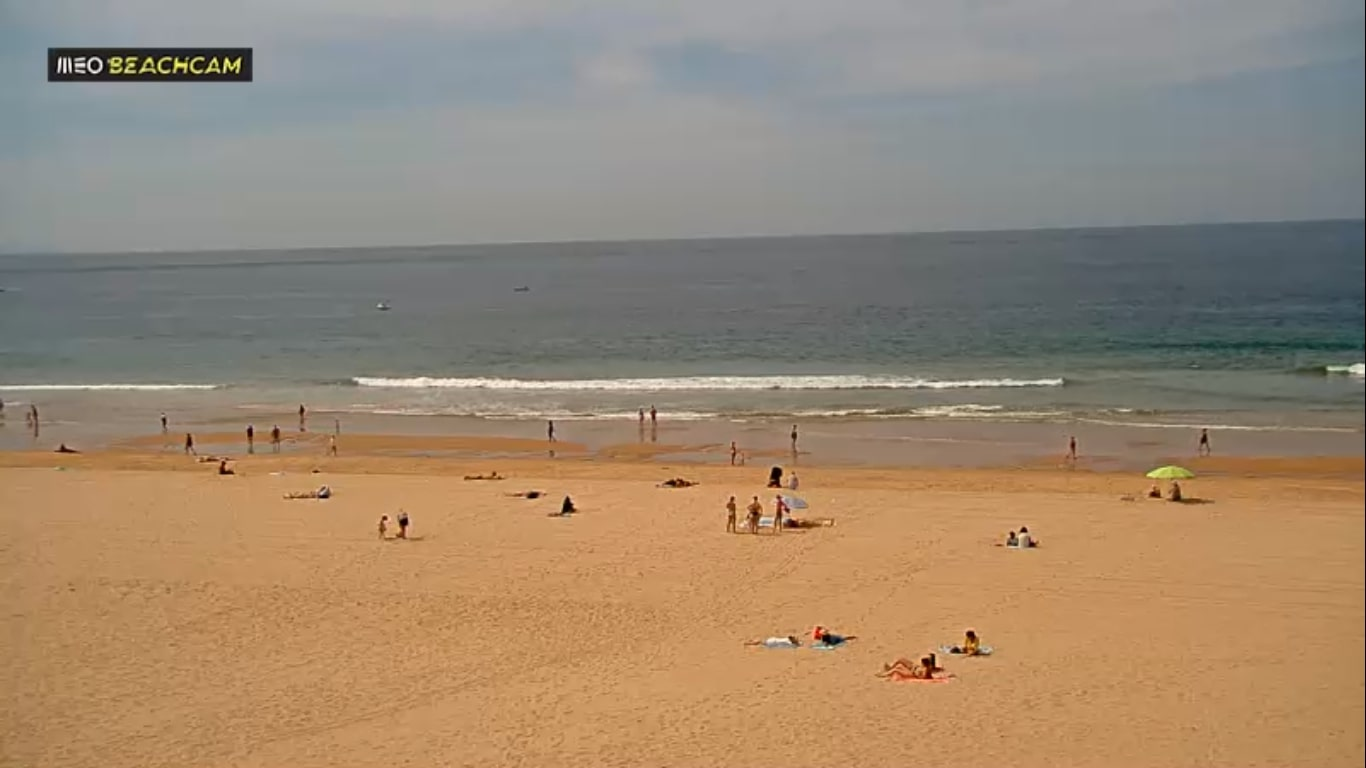person: (879, 654, 936, 679), (811, 621, 848, 647), (742, 633, 801, 649), (953, 628, 985, 656), (745, 493, 764, 534), (282, 484, 330, 499), (773, 493, 791, 529), (725, 495, 738, 534), (463, 470, 504, 481), (503, 489, 546, 499), (396, 506, 409, 538), (544, 417, 560, 443), (1197, 426, 1211, 453), (787, 420, 799, 450), (377, 514, 390, 541), (218, 458, 236, 477), (1067, 435, 1081, 459), (244, 423, 254, 454), (270, 422, 281, 450), (1167, 480, 1181, 501), (786, 468, 798, 489), (1018, 526, 1030, 547), (729, 440, 738, 466), (297, 401, 306, 426), (561, 496, 575, 512), (1147, 483, 1162, 497), (328, 433, 337, 456), (1006, 530, 1018, 547), (184, 432, 194, 451), (55, 443, 76, 452), (29, 403, 39, 419), (649, 403, 656, 424), (638, 406, 646, 424), (160, 413, 167, 431)
